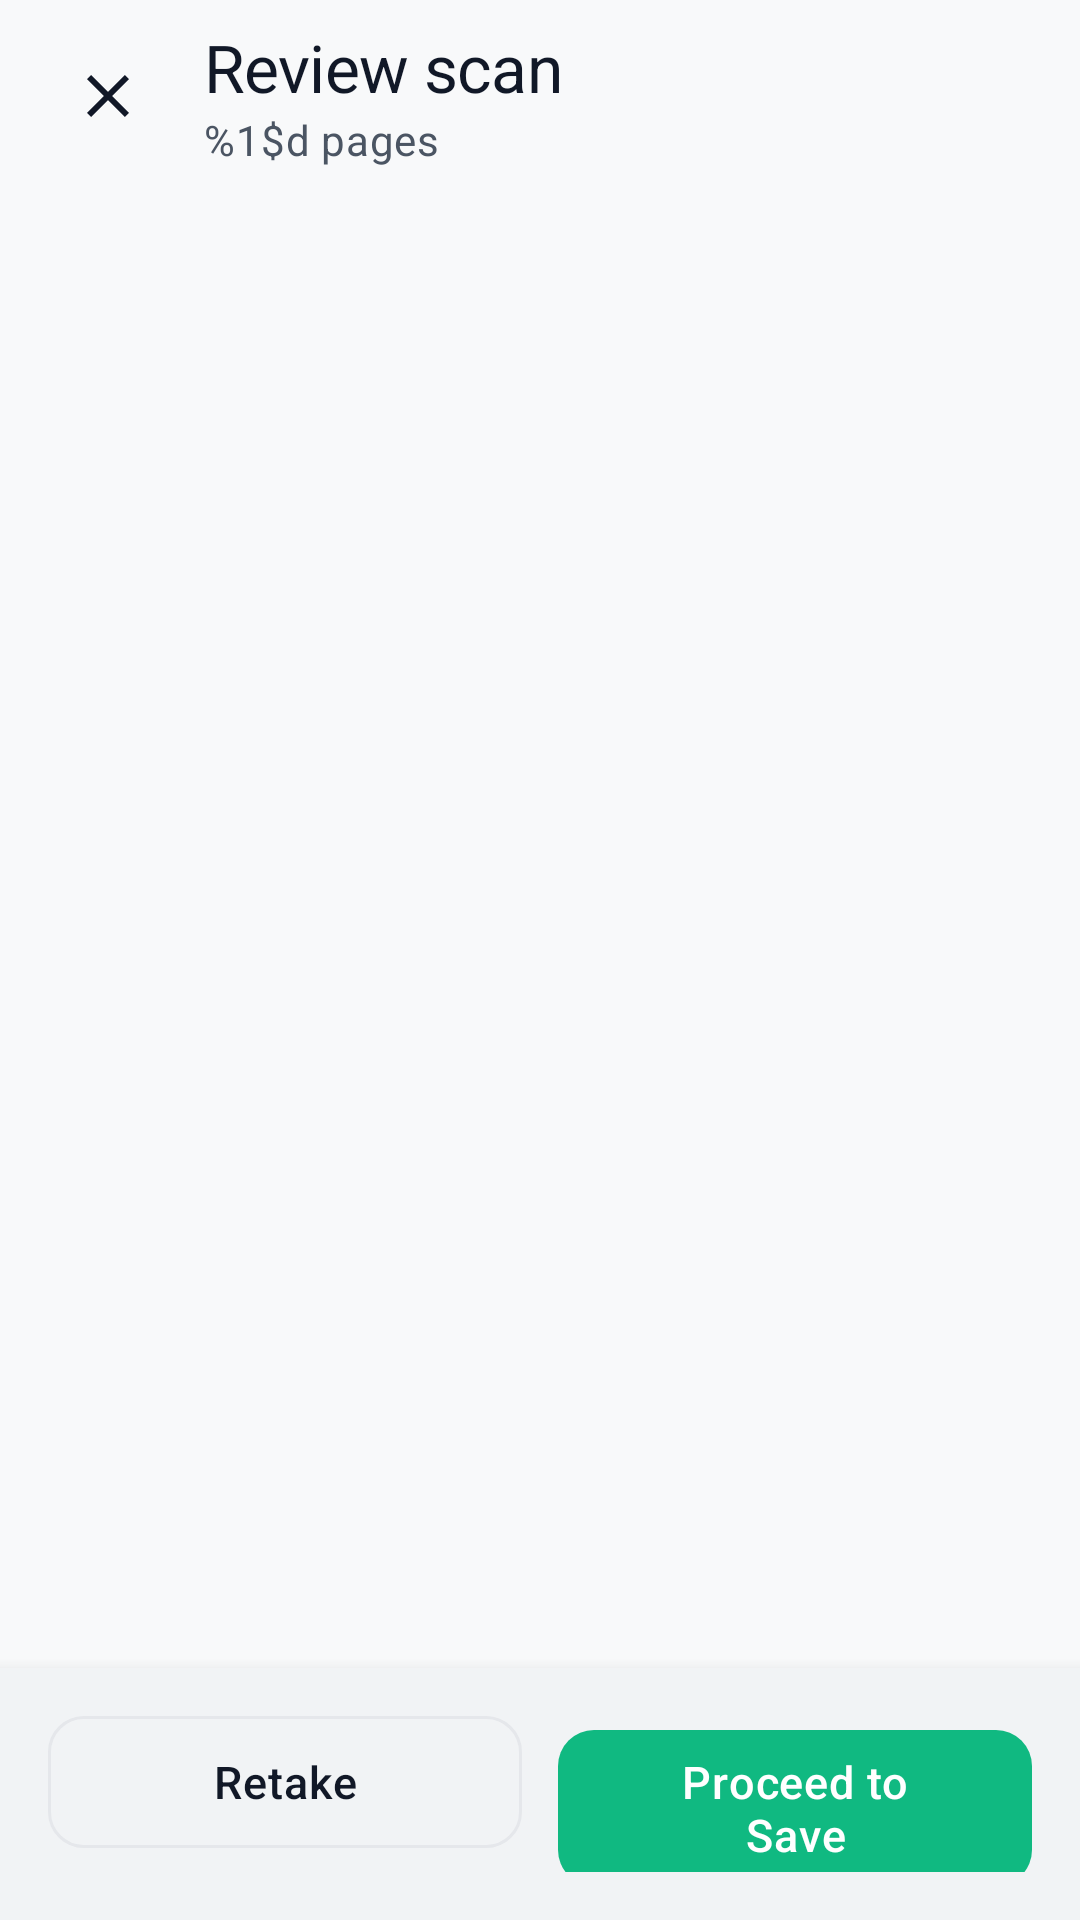

Icons on this 1080px x 1920px Android screen, each with its box as (x1, y1, x2, y2):
Close: (87, 75, 129, 117)
